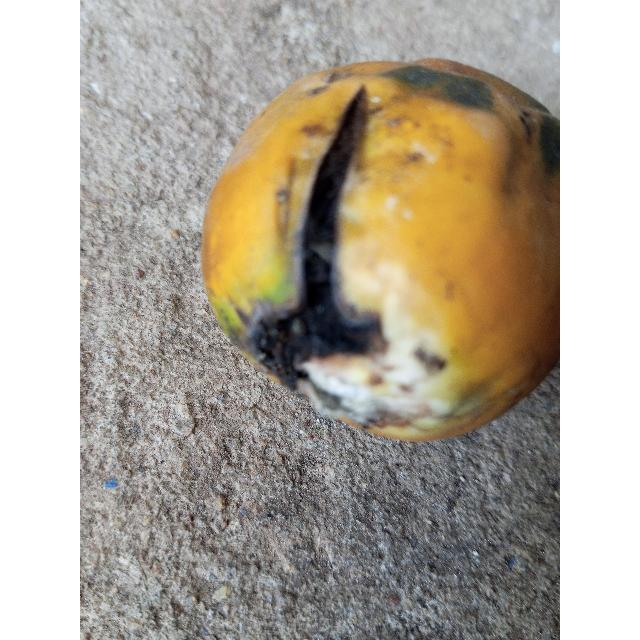damaged: (201, 59, 560, 445)
